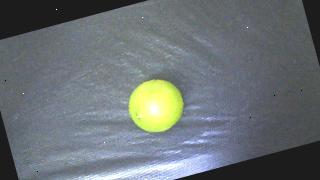LOCAL: (122, 74, 189, 139)
